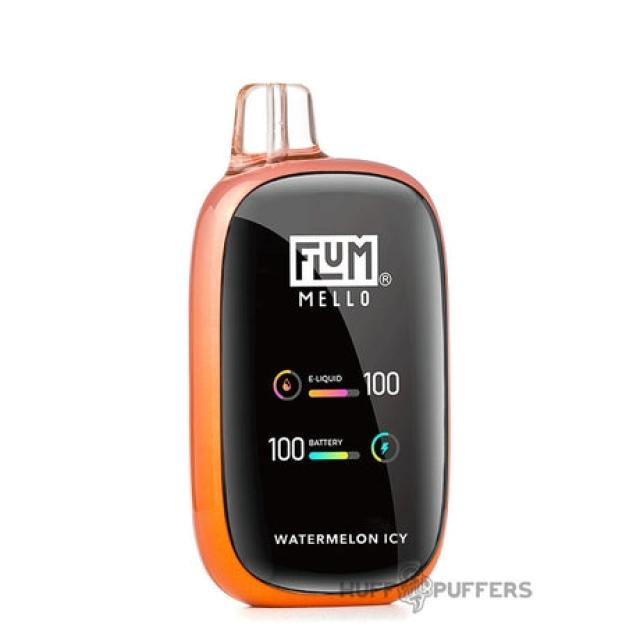Hazard: (186, 81, 451, 608)
